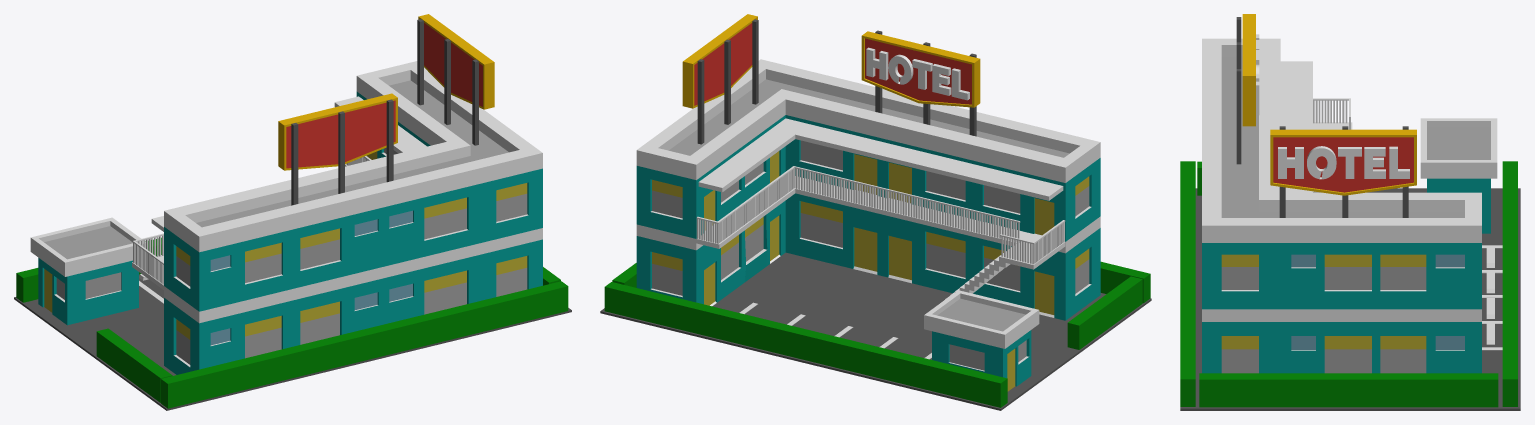
The model's file is Hotel.fbx.
3 views of the same model, side by side, from view 1: azimuth 30°, elevation 25°; view 2: azimuth 150°, elevation 25°; view 3: azimuth 270°, elevation 25° (orthographic). The views are drawn at different scales.
Parts seen in each view (by area): view 1: pCube14, pCube231, pCube219, pCube238, pCube17, pCube239, pCube237, pCube218, pCube229, pCube217; view 2: pCube14, pCube17, pCube229, pCube218, pCube219, pCube217, pCube238, pCube239, pCube18, pCube237, pCube231; view 3: pCube14, pCube230, pCube239, pCube17, pCube219, pCube229, pCube231, pCube238, pCube217, pCube218.
Boxes of the visible parts, x1,y1,x2,y2 form: pCube14: (164, 61, 542, 374); pCube231: (161, 281, 568, 408); pCube219: (30, 217, 145, 325); pCube238: (278, 93, 397, 205); pCube17: (14, 274, 571, 410); pCube239: (417, 14, 494, 145); pCube237: (96, 328, 172, 402); pCube218: (132, 156, 371, 284); pCube229: (16, 237, 161, 302); pCube217: (151, 96, 426, 231); pCube14: (636, 59, 1100, 320); pCube17: (600, 252, 1151, 410); pCube229: (604, 282, 1007, 407); pCube218: (696, 166, 1065, 264); pCube219: (924, 290, 1039, 391); pCube217: (698, 118, 1063, 200); pCube238: (861, 30, 980, 136); pCube239: (682, 14, 758, 144); pCube18: (696, 176, 1065, 299); pCube237: (1067, 276, 1142, 349); pCube231: (1100, 261, 1150, 303); pCube14: (1202, 38, 1481, 373); pCube230: (1199, 373, 1498, 407); pCube239: (1270, 126, 1416, 217); pCube17: (1180, 188, 1520, 410); pCube219: (1420, 118, 1497, 233); pCube229: (1502, 161, 1517, 406); pCube231: (1180, 161, 1195, 406); pCube238: (1236, 14, 1259, 164); pCube217: (1280, 61, 1312, 192); pCube218: (1313, 98, 1350, 129).
Bounding box in the file's own units: 8.13 × 4.41 × 5.31.
